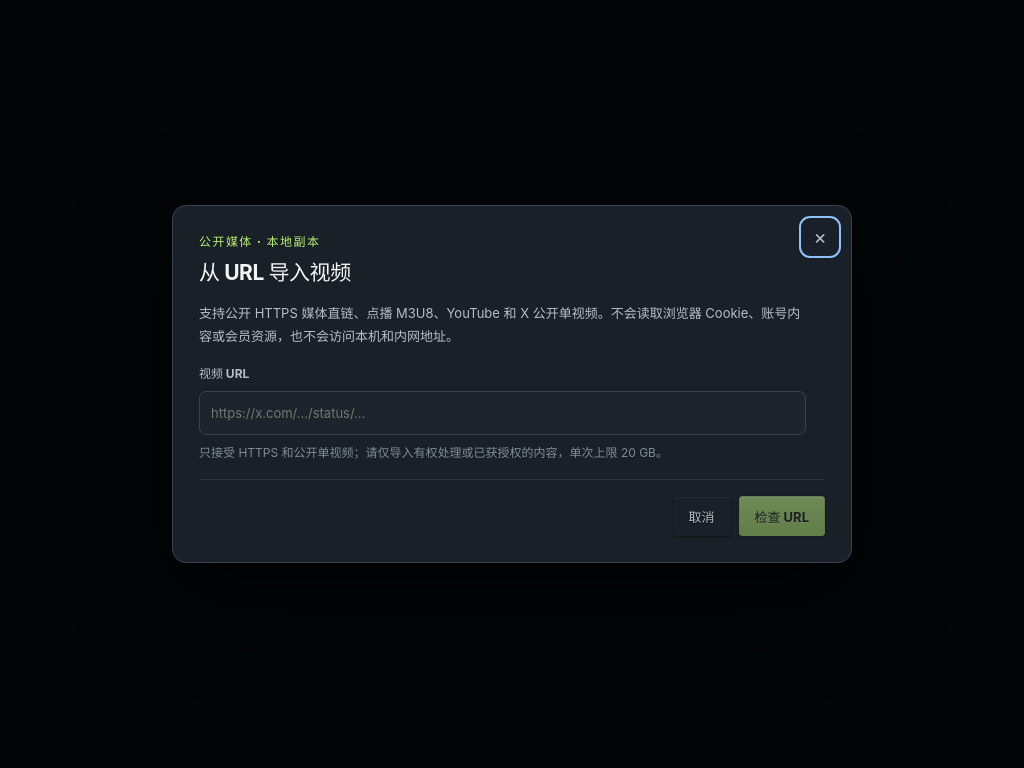
Test: RemoteUrlDialog › does not retry a failed direct inspection with implicit resolver consent
Type "https://x.com/openai/status/1234567890" into the field labelled "视频 URL". click: (502, 413)
box: [199,391,806,435]
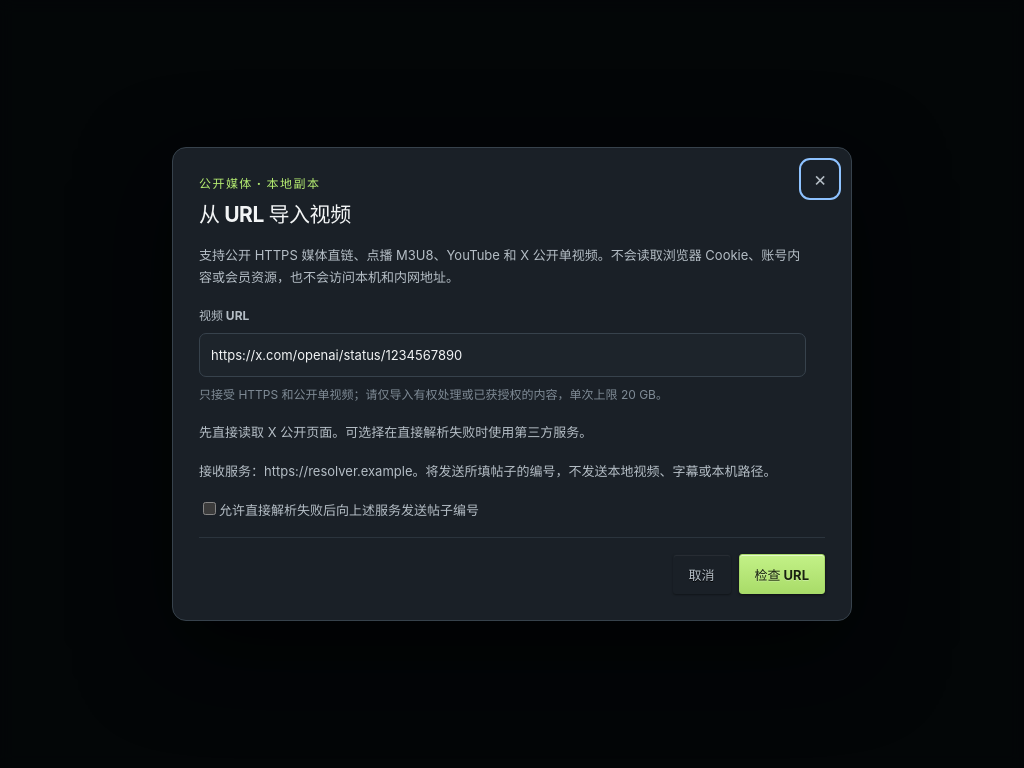
Click the button "检查 URL". click: (782, 574)
box: [738,554,825,594]
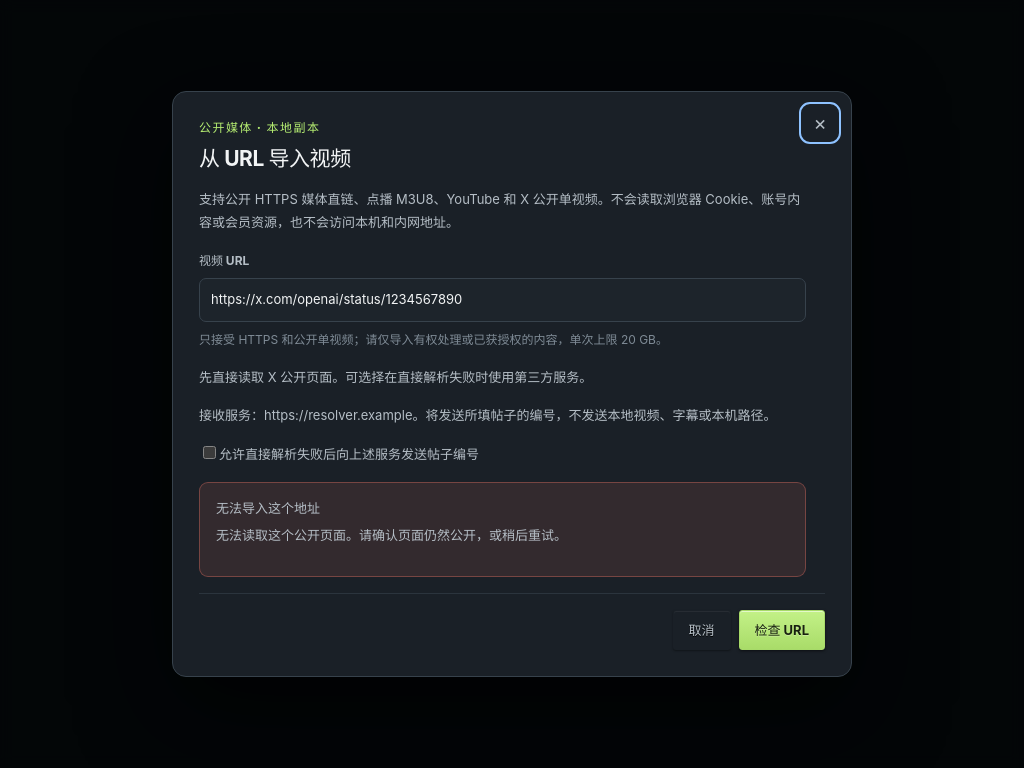
Result: the checkbox labelled "允许直接解析失败后向上述服务发送帖子编号" is not checked at [203,446,216,459]
Result: the message "无法导入这个地址 无法读取这个公开页面。请确认页面仍然公开，或稍后重试。" is shown at [199,482,806,577]
